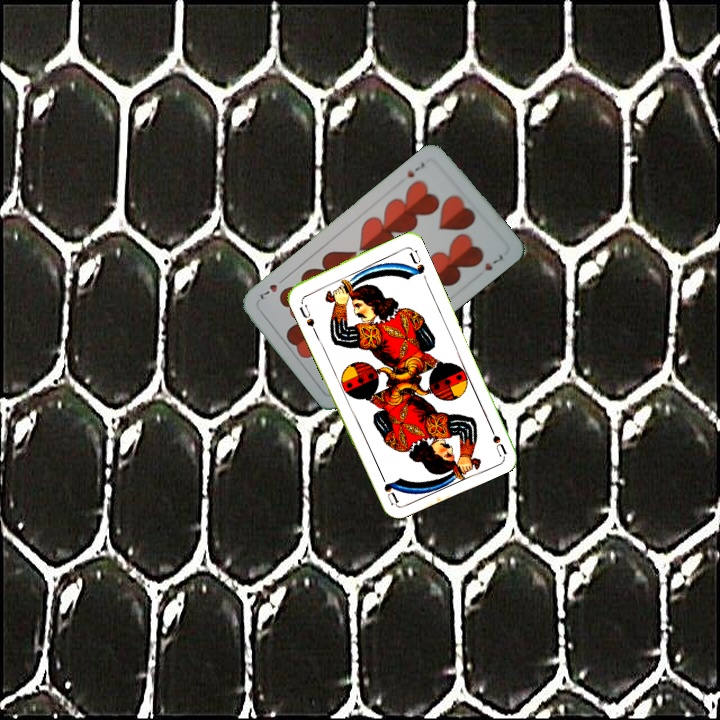H7: (403, 158, 427, 180)
SU: (484, 418, 509, 458), (295, 296, 319, 335)
